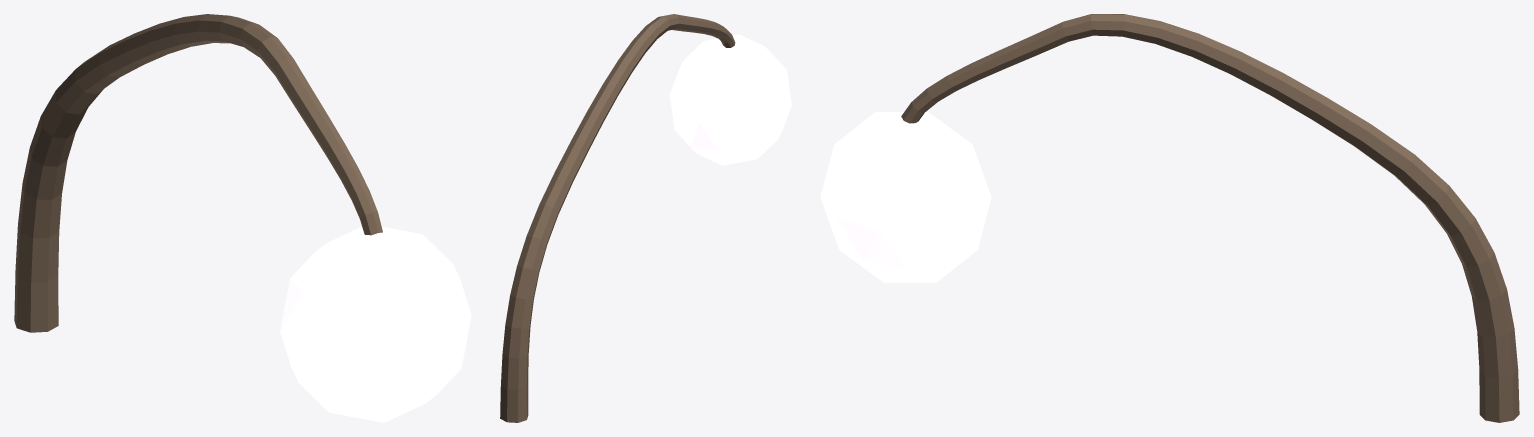
The model's file is Cosmetic_AnglerLure.glb.
3 views of the same model, side by side, from view 1: azimuth 30°, elevation 25°; view 2: azimuth 150°, elevation 25°; view 3: azimuth 270°, elevation 25° (orthographic). The views are drawn at different scales.
Visible parts, largest first — view 1: Cosmetic_AnglerLure; view 2: Cosmetic_AnglerLure; view 3: Cosmetic_AnglerLure.
Boxes of the visible parts, x1,y1,x2,y2 form: Cosmetic_AnglerLure: [14, 14, 471, 422]; Cosmetic_AnglerLure: [500, 14, 791, 422]; Cosmetic_AnglerLure: [820, 14, 1519, 422].
Size of the model in its own units: 0.1427 by 0.3868 by 0.6125.
